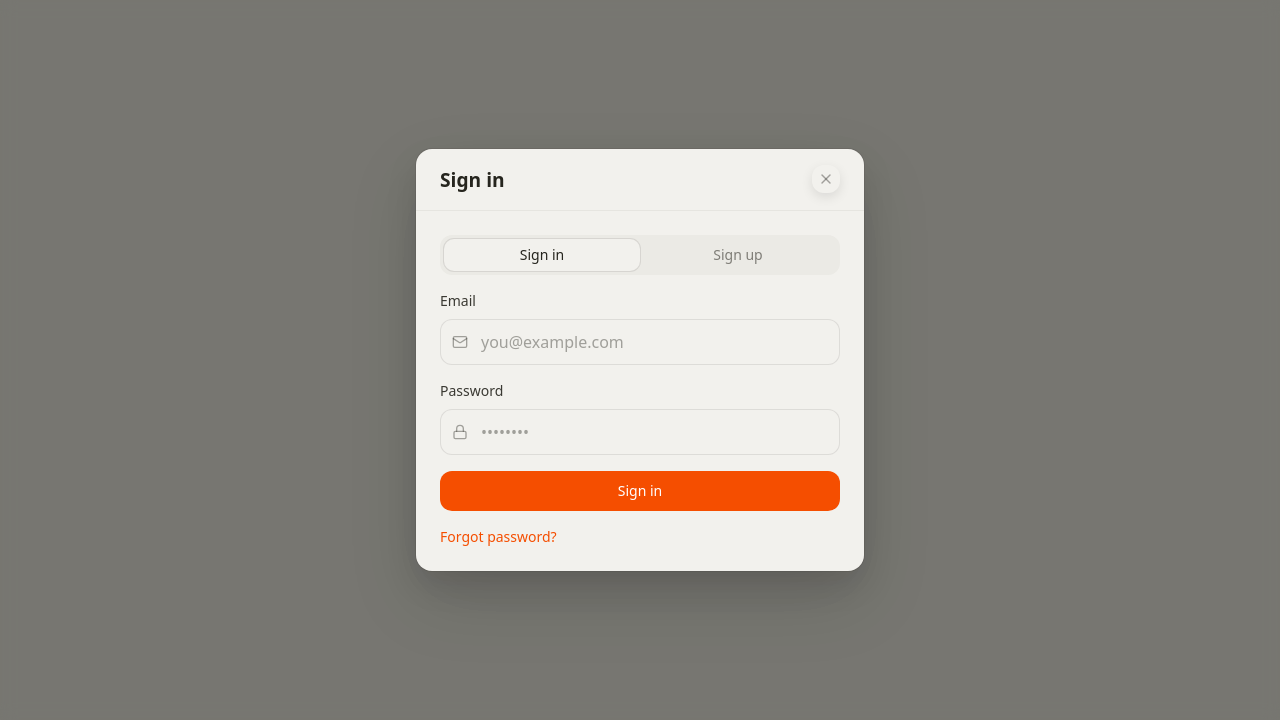
Test: AuthModal › switches to sign-up tab
Click the button with test id "auth-tab-signup" at coordinates (738, 255), box x1=640 y1=239 x2=836 y2=271
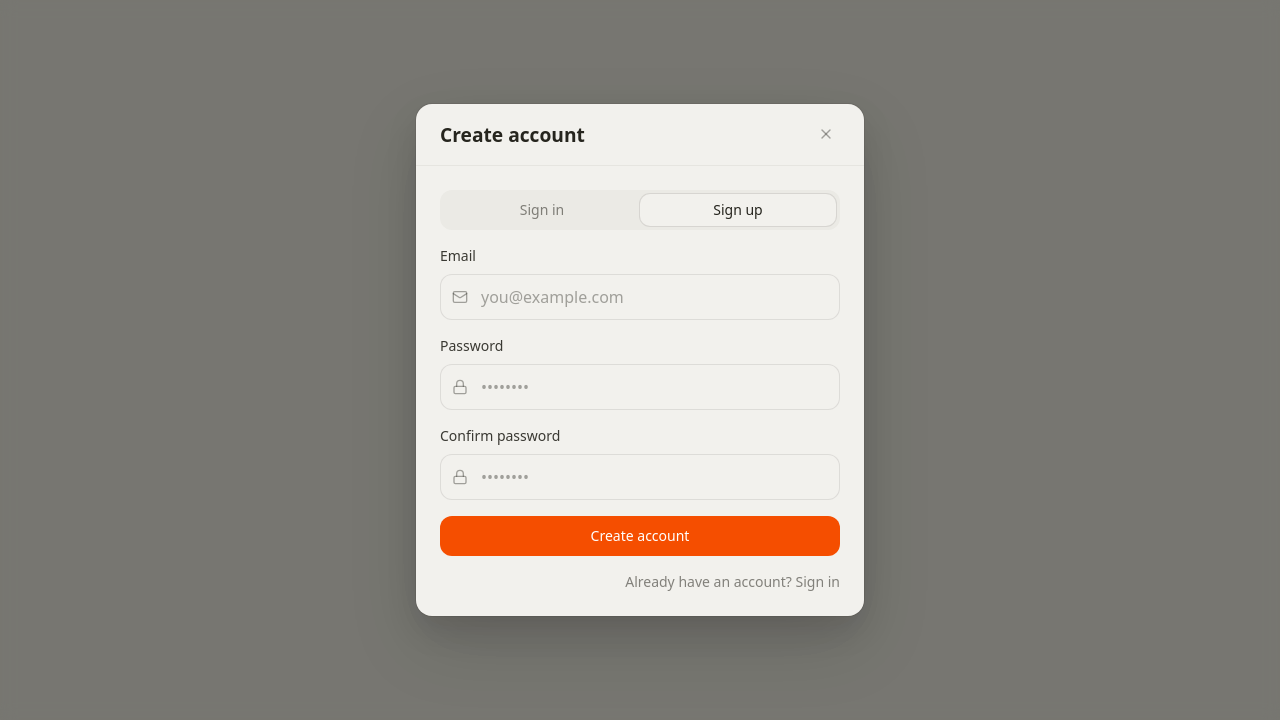
Result: the password field labelled "Confirm password" is shown at x1=440 y1=454 x2=840 y2=500
Result: the button with test id "auth-submit" reads "Create account" at x1=440 y1=516 x2=840 y2=556
